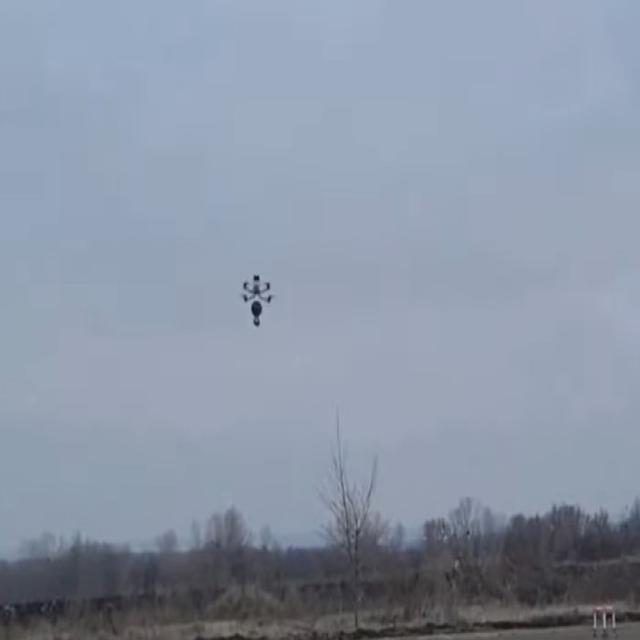drone: (239, 270, 276, 330)
